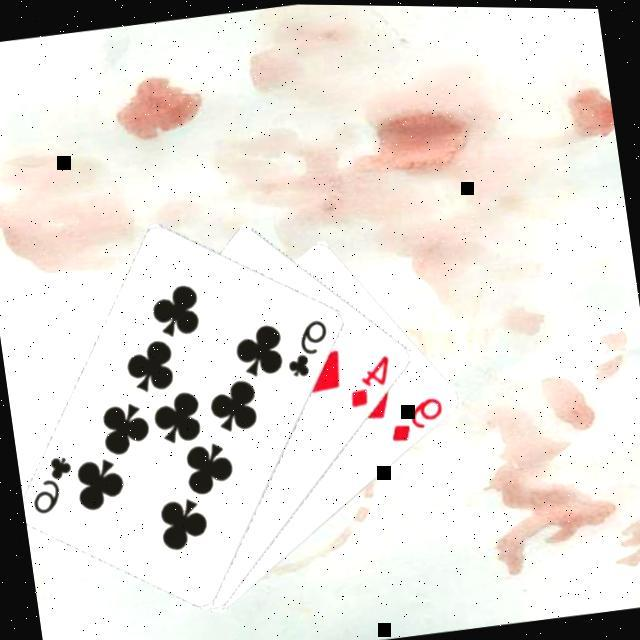4D: (340, 349, 397, 410)
9C: (276, 312, 336, 381), (22, 450, 80, 518)
9D: (381, 390, 449, 445)
